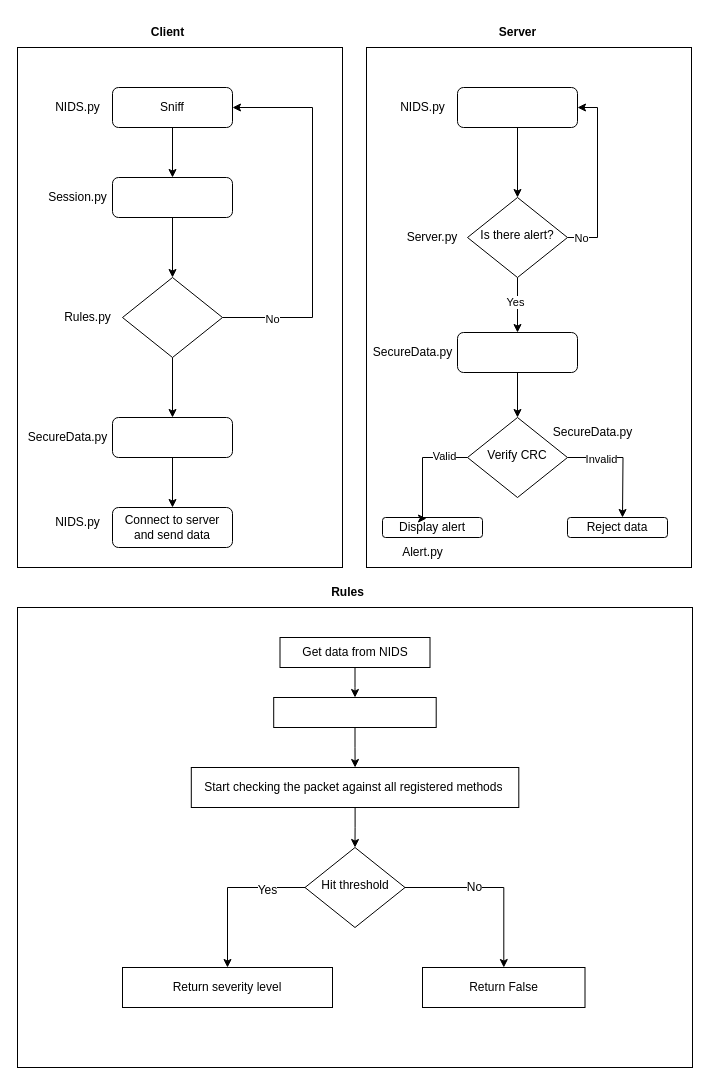
Some shapes in this 710 by 1085 pixel diagram are drawn without their labels. Each missing label, with the centre of its shape:
Decrypt and decode data: point 517,352
Encrypt and encode data: point 172,437
Listen for incoming connection: point 517,107
Load config.json: point 354,712
Packet matches rules: point 172,317
Store packets in session to keep track: point 172,197
